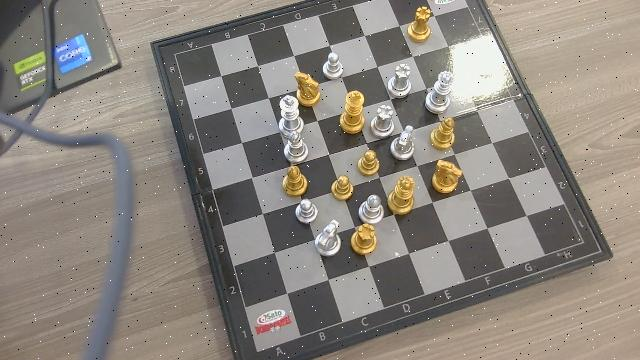black_bishop: (432, 115, 460, 150), (277, 165, 308, 196)
black_king: (338, 89, 365, 137)
black_knight: (429, 157, 463, 196), (293, 70, 322, 108)
black_pawn: (358, 149, 381, 178), (332, 175, 354, 202)
black_queen: (389, 177, 416, 214)
black_rook: (409, 5, 434, 40), (353, 224, 377, 253)
white_bishop: (358, 195, 386, 223), (283, 132, 308, 163)
white_king: (277, 94, 300, 130)
white_knight: (314, 219, 342, 259), (393, 125, 417, 161)
white_pawn: (323, 51, 345, 81), (295, 197, 319, 224)
white_queen: (426, 71, 454, 113)
white_rook: (385, 63, 413, 96), (372, 105, 395, 136)
